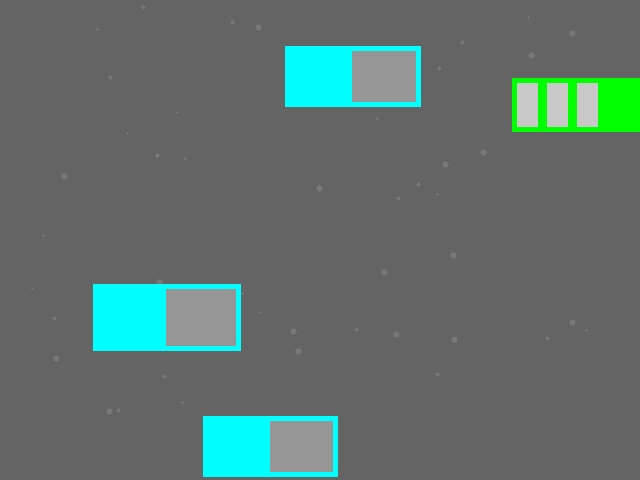bus: (512, 78, 640, 131)
truck: (93, 284, 240, 350), (285, 46, 420, 106), (203, 416, 337, 476)
